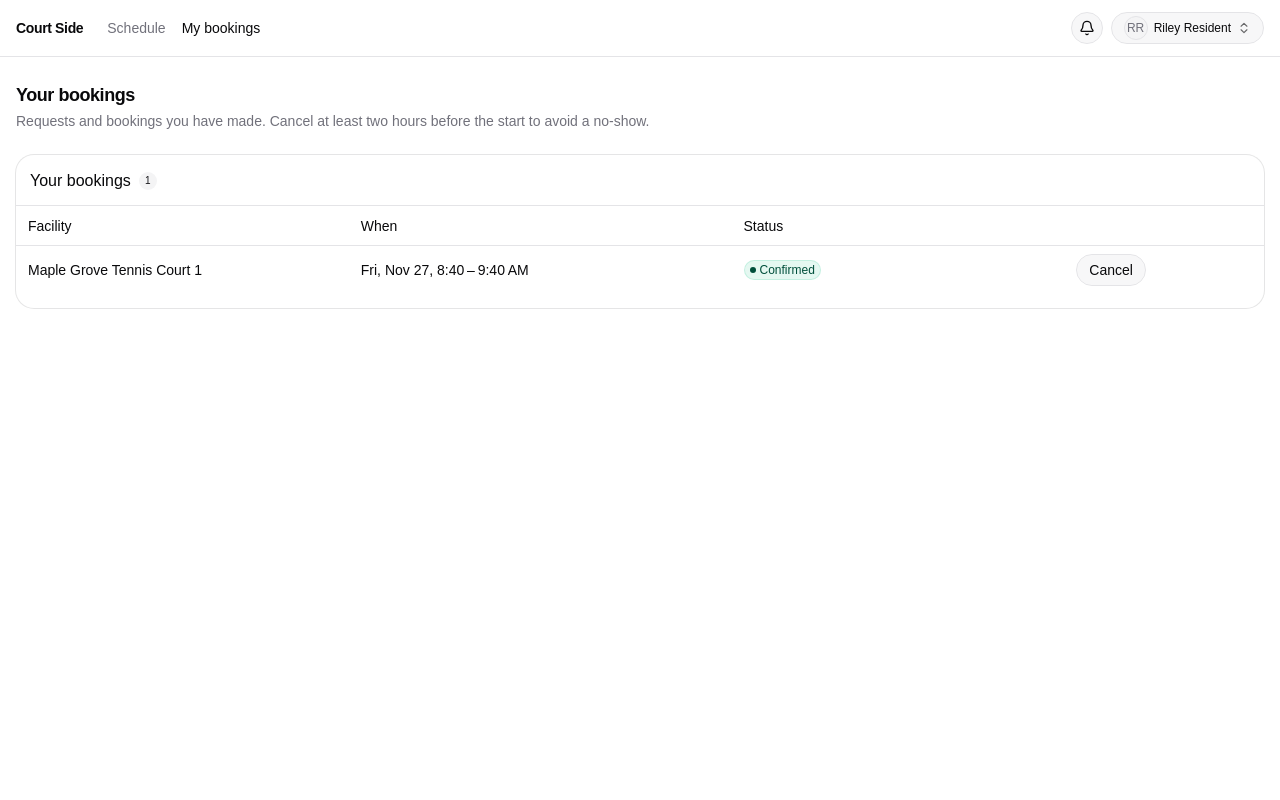
Test: your bookings › warns that a late cancellation counts as a no-show
Click the button with aria-label "Cancel Maple". click: (1111,270)
box: top-left (1076, 254), bottom-right (1146, 286)
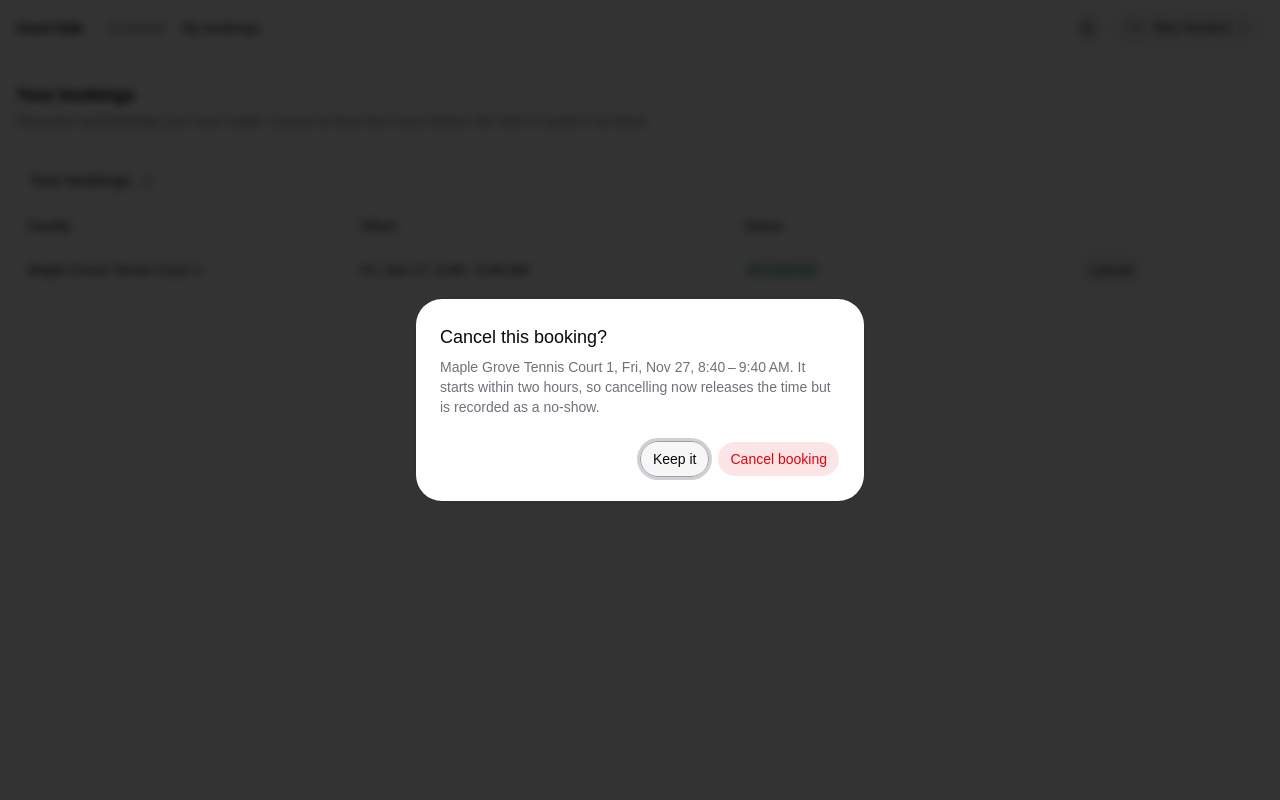
Expected: the dialog shows "recorded as a no-show", top-left (440, 359), bottom-right (831, 415)
Click the button "Cancel booking". click: (779,459)
box: top-left (718, 441), bottom-right (840, 477)
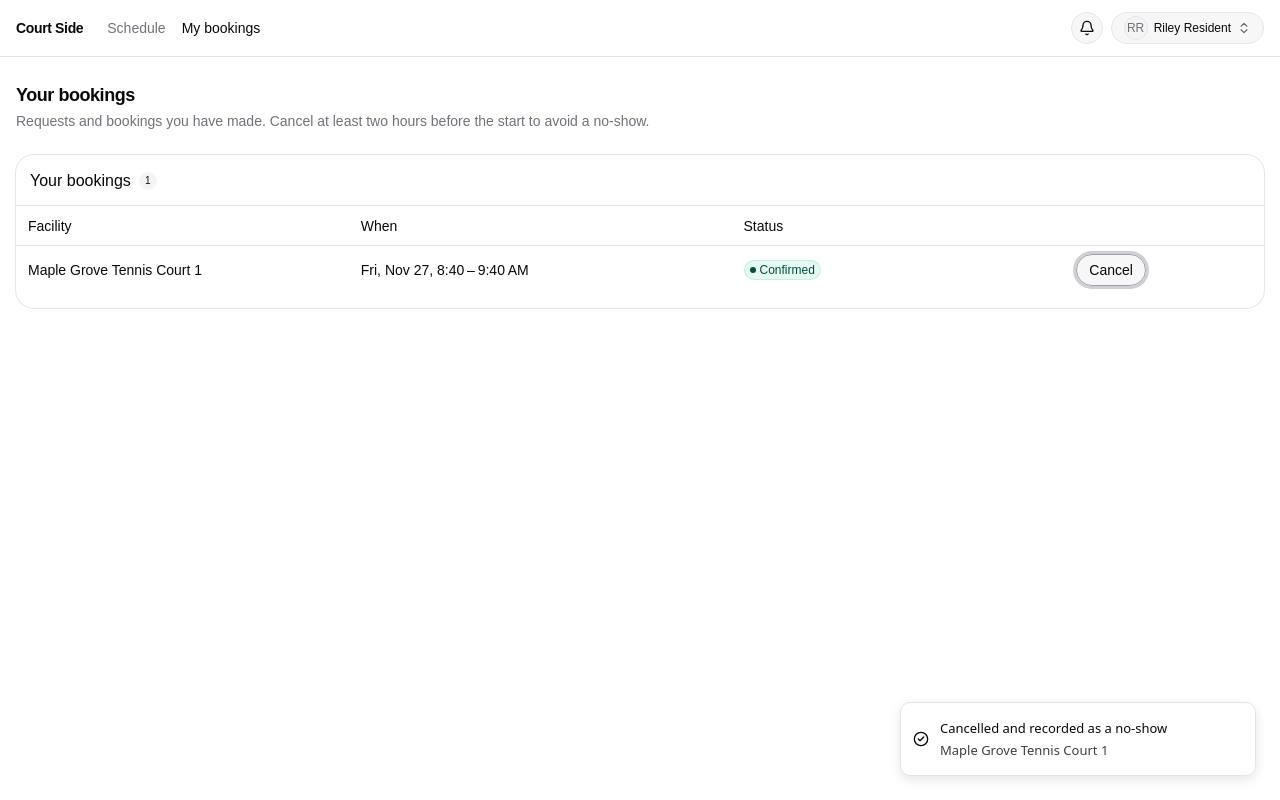
Expected: the text "Cancelled and recorded as a no-show" is shown, top-left (940, 719), bottom-right (1167, 739)
